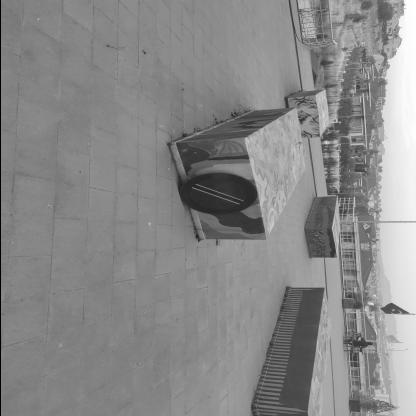No Waiting: (180, 174, 258, 217)
